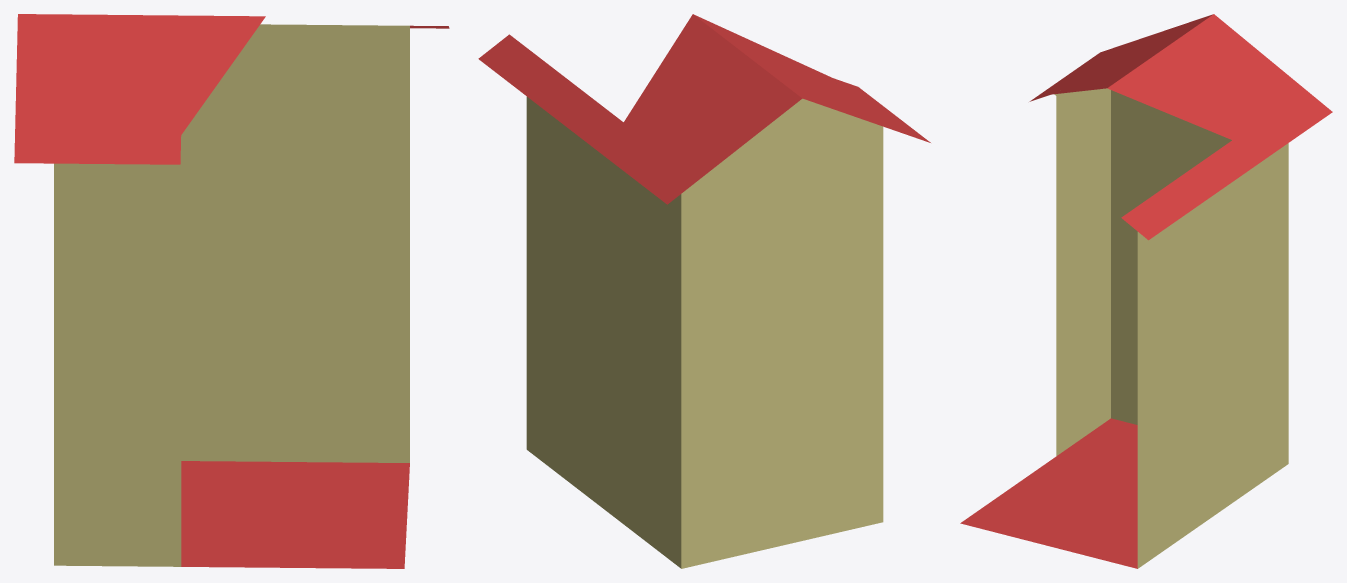
The picture shows the model from 3 angles, left to right: view 1: azimuth 30°, elevation 25°; view 2: azimuth 150°, elevation 25°; view 3: azimuth 270°, elevation 25°; orthographic projection. The views are drawn at different scales.
Size of the model in its own units: 10.37 by 8.69 by 10.67.
